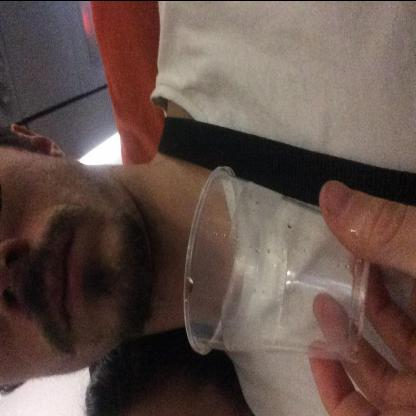plastik: (182, 162, 370, 362)
